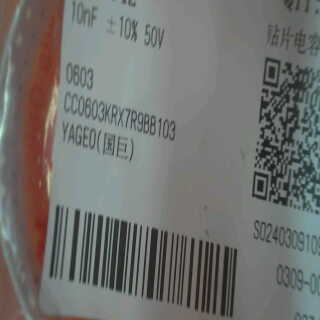10nF: (68, 2, 108, 32)
